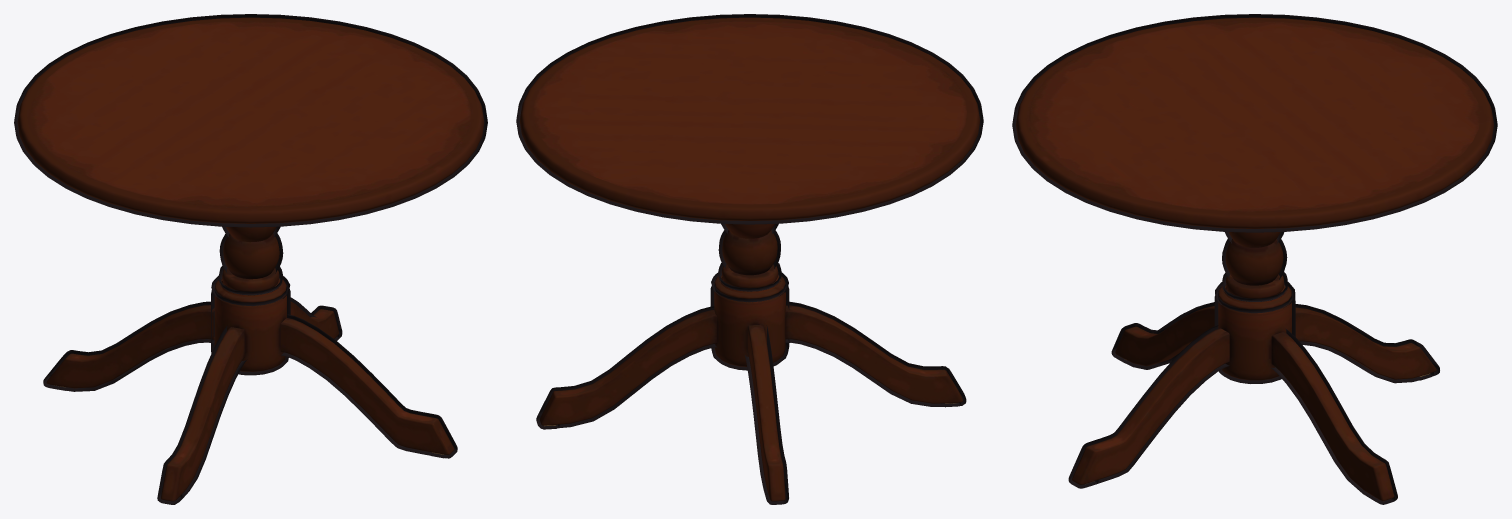
Rendered from SM_Int_RoundTable.fbx.
3 renders of one model, left to right at view 1: azimuth 30°, elevation 25°; view 2: azimuth 150°, elevation 25°; view 3: azimuth 270°, elevation 25°, orthographic. The views are drawn at different scales.
Visible parts, largest first — view 1: SM_Int_RoundTable; view 2: SM_Int_RoundTable; view 3: SM_Int_RoundTable.
Part boxes in pixels (<box>): SM_Int_RoundTable: <box>14,14,487,504</box>; SM_Int_RoundTable: <box>516,14,983,504</box>; SM_Int_RoundTable: <box>1012,14,1497,504</box>.
Size of what is drawn, in the model's own units: 1.06 by 0.7657 by 1.06.
